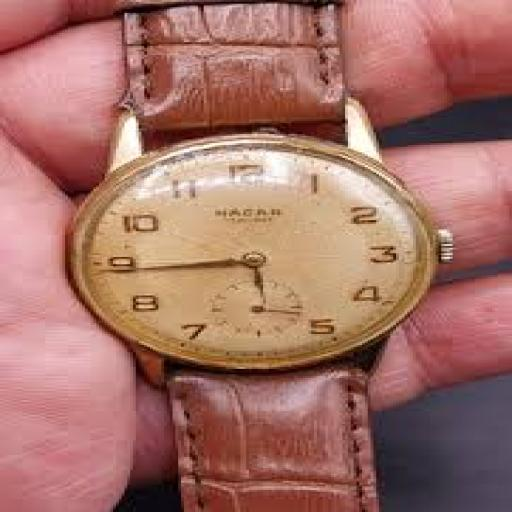KolSaati: (46, 5, 486, 512)
